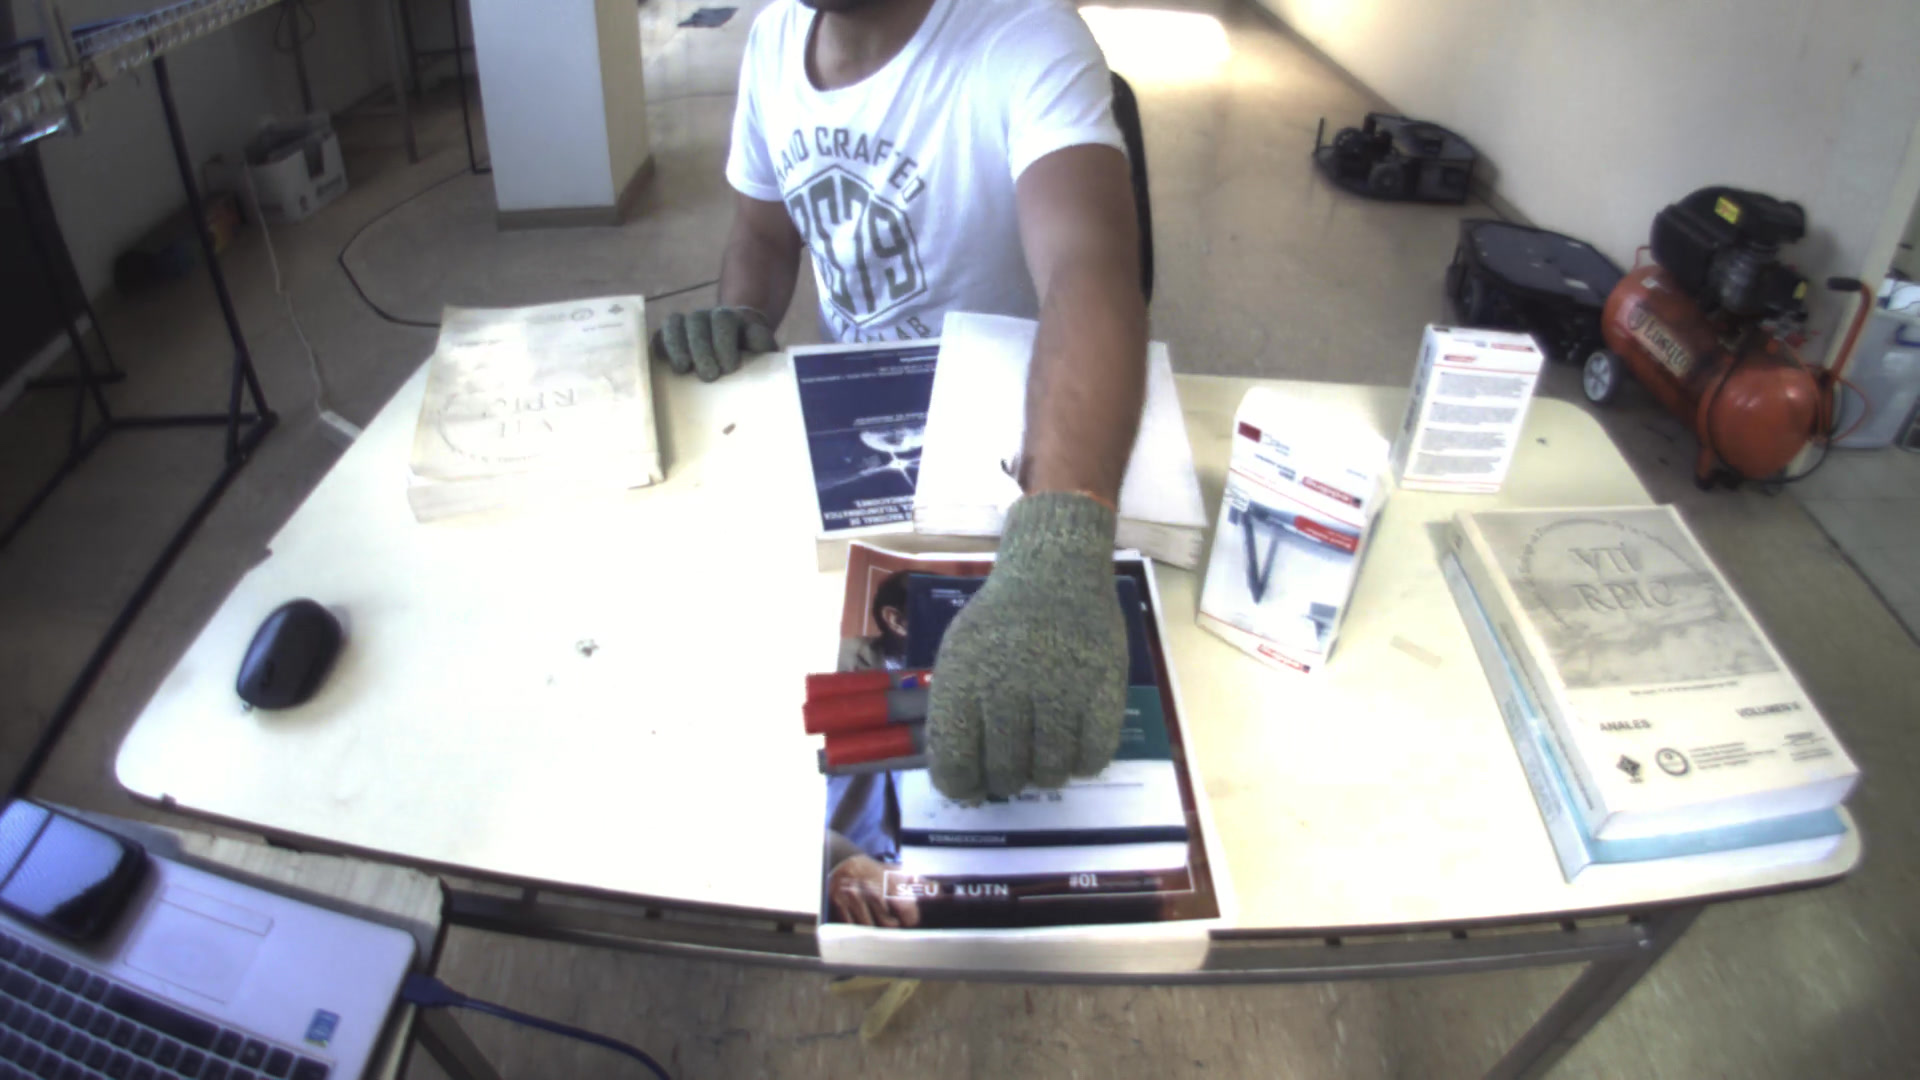hand: (920, 495, 1141, 814), (642, 305, 781, 378)
